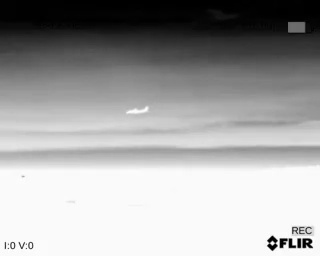AIRPLANE: (125, 104, 150, 116)
